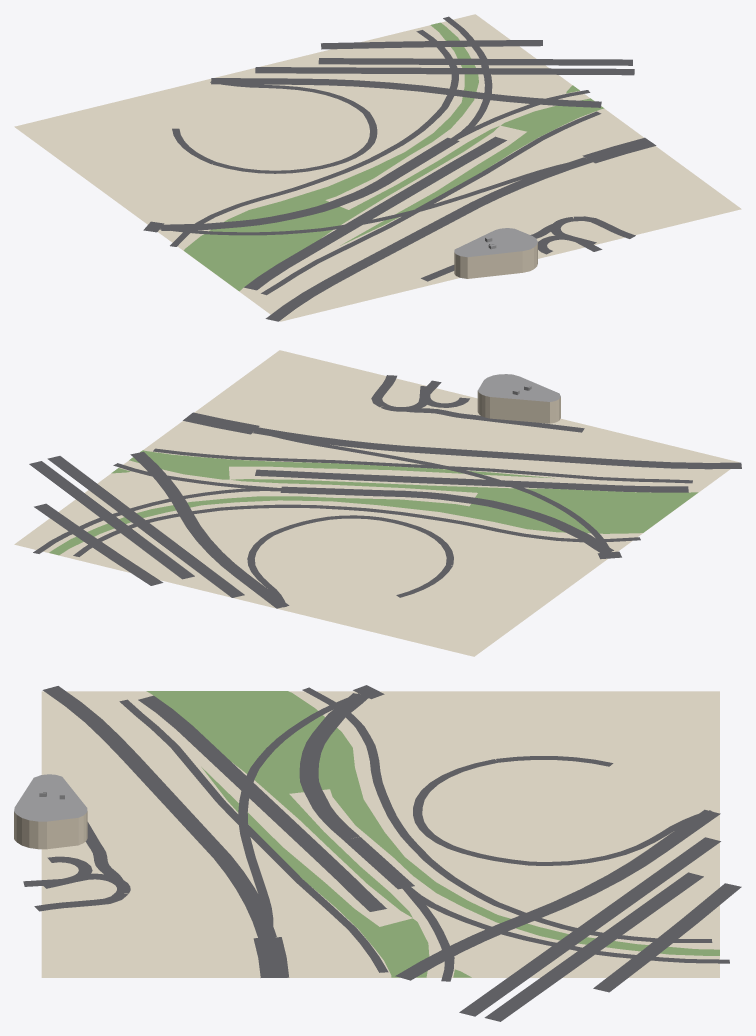
Rendered from tile_-3_-2_far.glb.
3 renders of one model, top to bottom at view 1: azimuth 30°, elevation 25°; view 2: azimuth 150°, elevation 25°; view 3: azimuth 270°, elevation 25°, orthographic. The views are drawn at different scales.
Visible parts, largest first — view 1: nature_ground, roads_asphalt, nature_grass, buildings_sandstone, buildings_roof; view 2: nature_ground, roads_asphalt, nature_grass, buildings_sandstone, buildings_roof; view 3: nature_ground, roads_asphalt, nature_grass, buildings_roof, buildings_sandstone.
Boxes of the visible parts, left/top/right/bottom form: nature_ground: left=14, top=14, right=741, bottom=321; roads_asphalt: left=143, top=16, right=656, bottom=321; nature_grass: left=184, top=22, right=604, bottom=291; buildings_sandstone: left=454, top=242, right=537, bottom=278; buildings_roof: left=454, top=228, right=537, bottom=257; nature_ground: left=14, top=350, right=739, bottom=656; roads_asphalt: left=29, top=375, right=741, bottom=608; nature_grass: left=49, top=450, right=698, bottom=555; buildings_sandstone: left=477, top=391, right=560, bottom=423; buildings_roof: left=478, top=374, right=560, bottom=401; nature_ground: left=41, top=691, right=719, bottom=977; roads_asphalt: left=23, top=685, right=741, bottom=1021; nature_grass: left=146, top=691, right=719, bottom=977; buildings_roof: left=14, top=774, right=87, bottom=821; buildings_sandstone: left=14, top=811, right=87, bottom=849.
Size of the model in its own units: 294 by 13.06 by 268.
